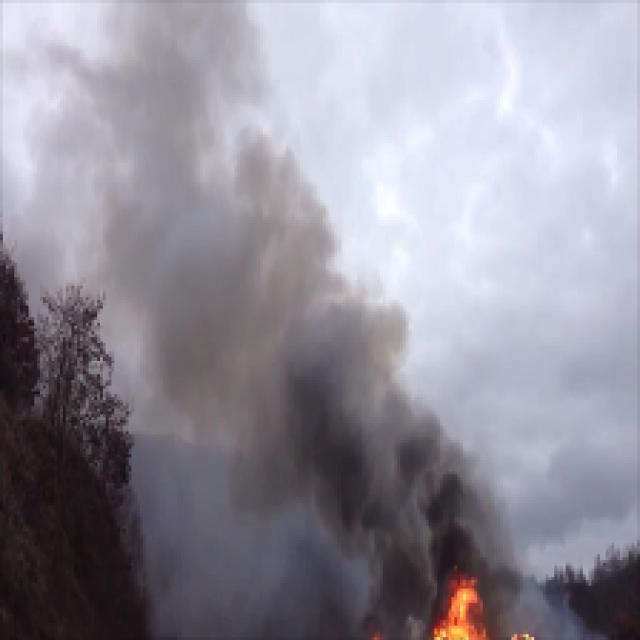Fire: (438, 576, 485, 640)
Smoke: (61, 45, 292, 284), (176, 296, 403, 464), (343, 476, 495, 556)
